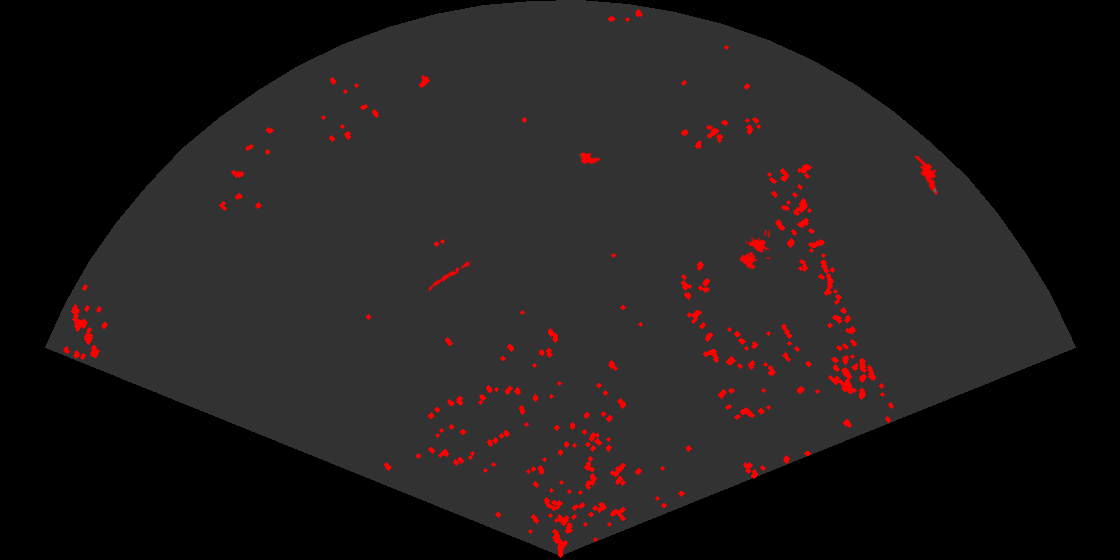AUV: (578, 150, 601, 164)
cage: (738, 230, 770, 271)
chain: (423, 258, 473, 293)
frogman: (912, 156, 940, 196)
